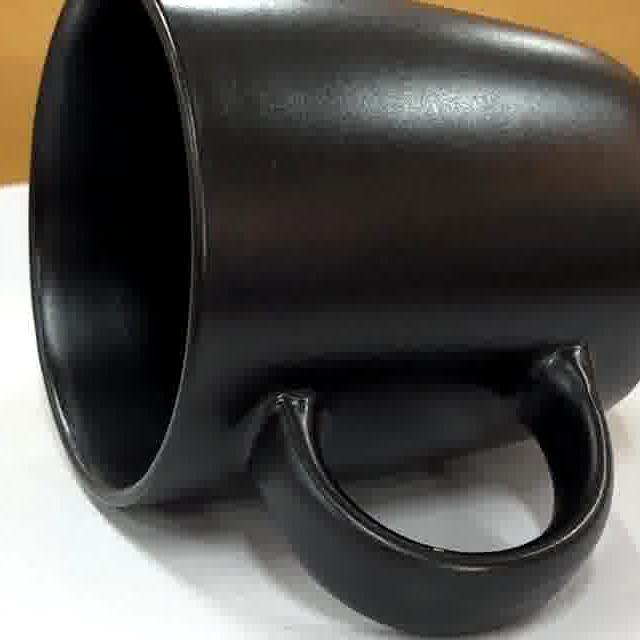cup: (30, 0, 640, 638)
